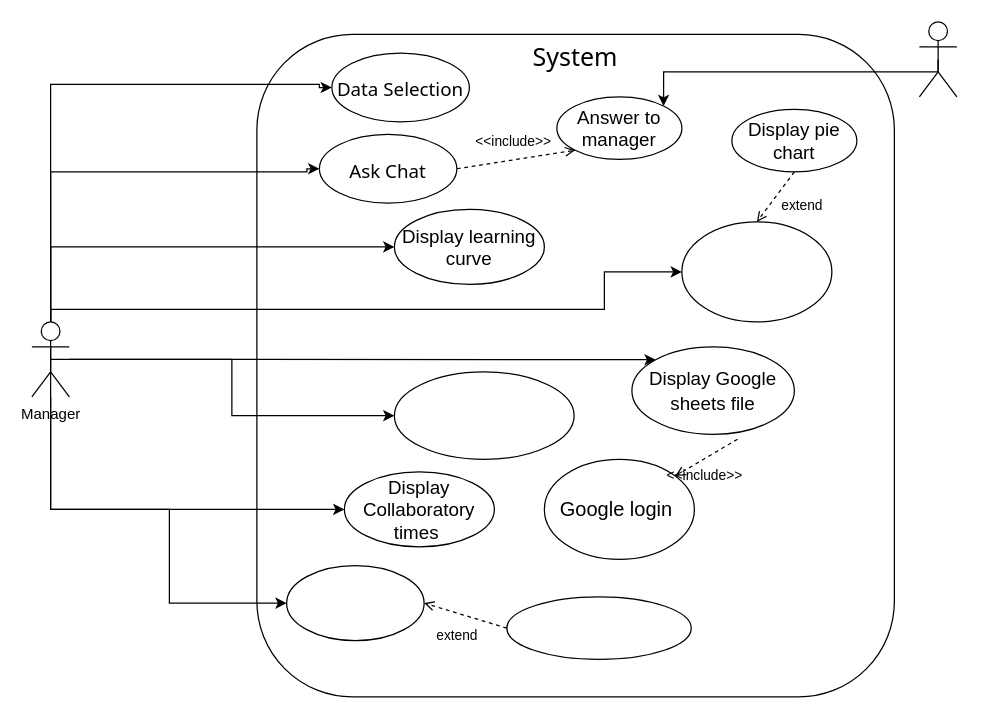
This 986x719 diagram has some shape labels left out. Here are the shapes that lost their labels. From the top down, the centre of each, then its label:
point 937,59: ChatBot
point 756,271: Display Attention Graph
point 483,415: Filter Data By: User/ Project/ Topic
point 354,602: Display document tab data
point 598,627: Display Activity Heatmap
